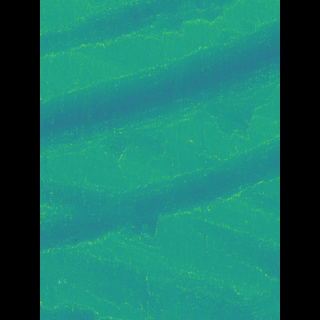Loch: (71, 12, 250, 165), (69, 130, 249, 259), (69, 0, 217, 66)
